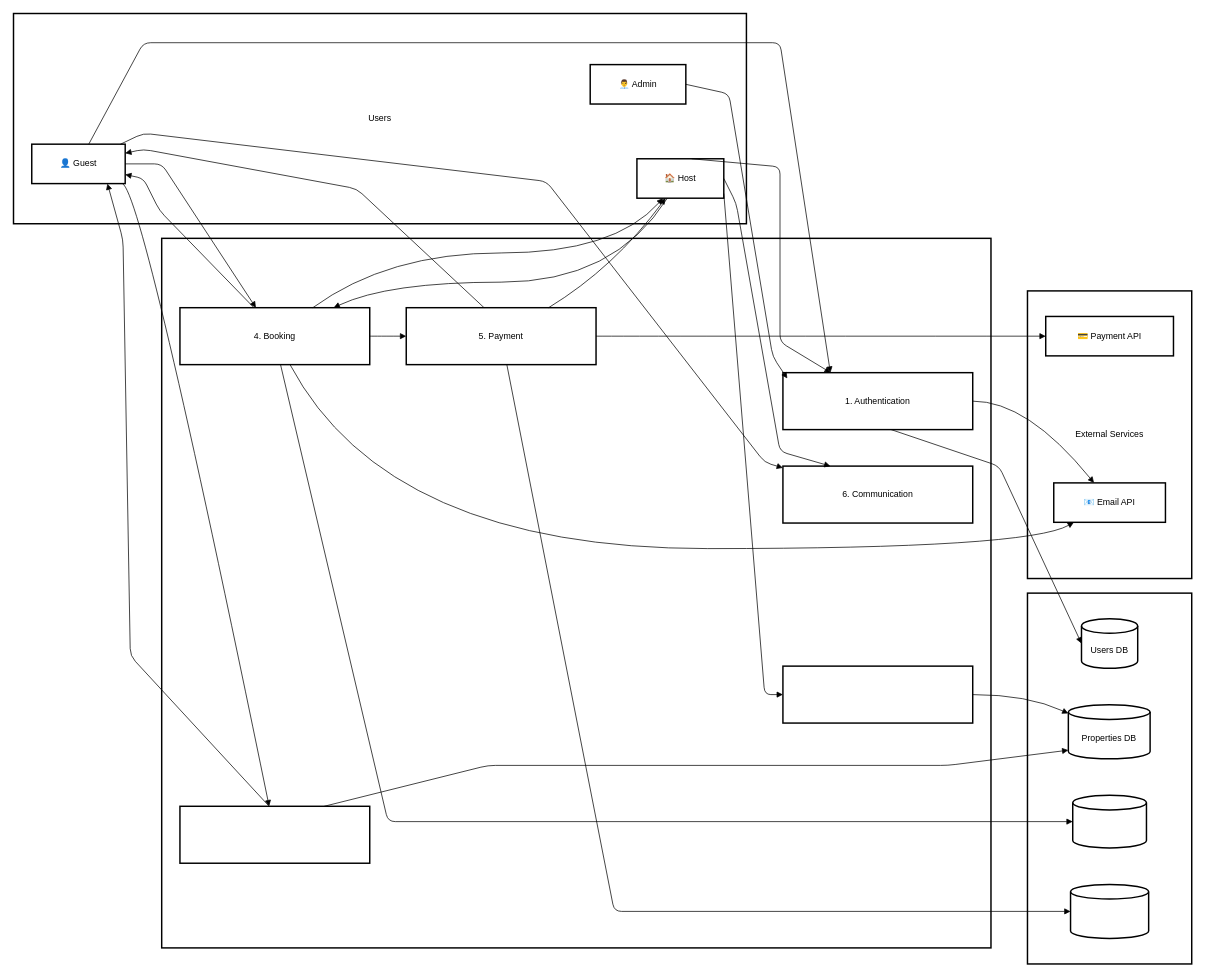
Some shapes in this 1205 by 977 pixel diagram are drawn without their labels. The shapes that lost their labels are listed below. From the top down, each one's box as (x1, y1, x2, y2) in pixels, then its label:
(161, 237, 991, 948): System Processes
(782, 665, 973, 723): 2. Property Mgmt
(1026, 592, 1192, 964): Data Storage
(179, 805, 370, 864): 3. Search
(1072, 794, 1147, 848): Bookings DB
(1069, 883, 1149, 939): Payments DB
